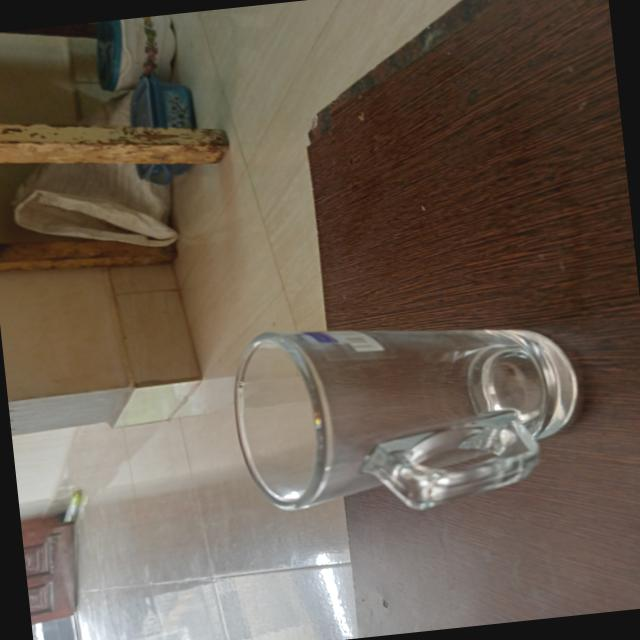glass-VX4N: (222, 297, 590, 529)
